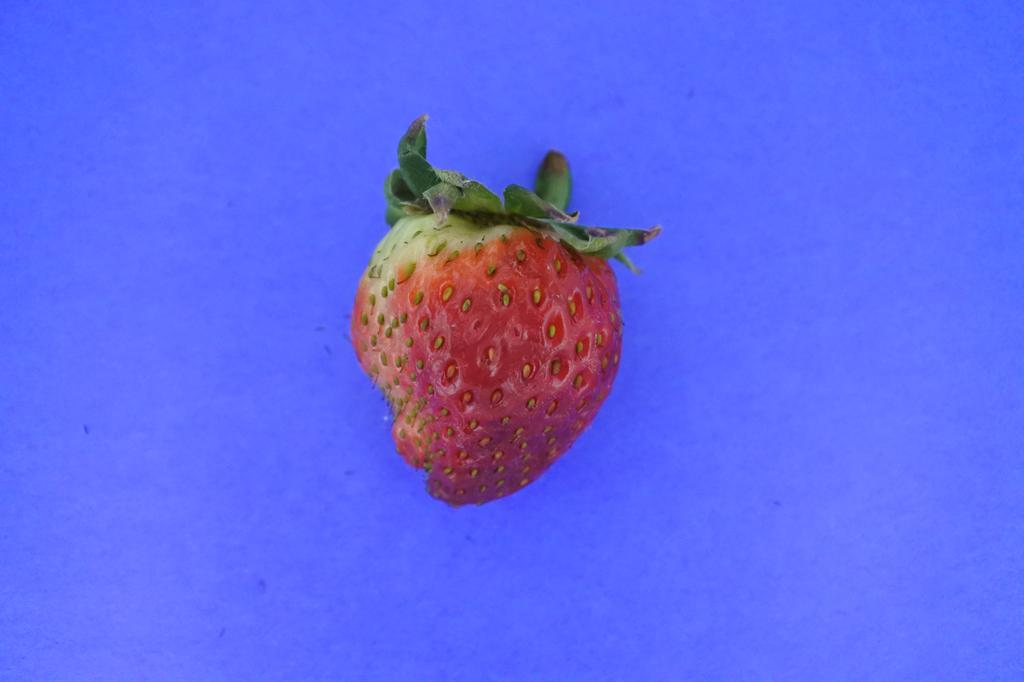red strawberry: (347, 115, 657, 507)
